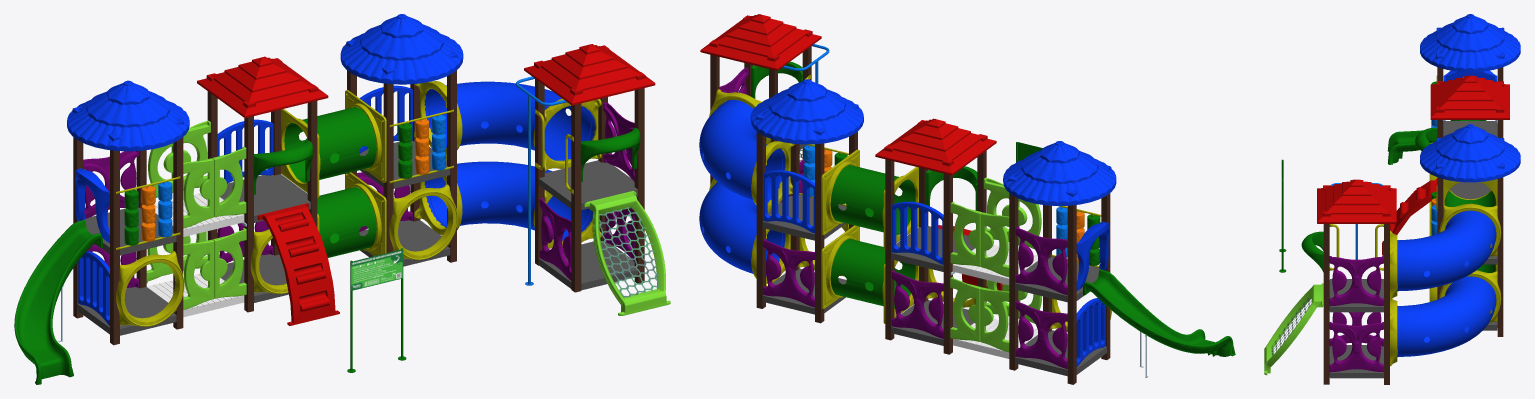
3 views of the same model, side by side, from view 1: azimuth 30°, elevation 25°; view 2: azimuth 150°, elevation 25°; view 3: azimuth 270°, elevation 25° (orthographic). The views are drawn at different scales.
Visible parts, largest first — view 1: object 15, TUNEL CURVO M3, TUNEL CURVO M3.001, object 20, TUNEL RETO 1M.001, TOLDO M2, TOLDO M2.001, object 11, TOLDO M1.001, TOLDO M1, TUNEL RETO 1M, object 35 (+35 smaller); view 2: object 15, TUNEL CURVO M3, TOLDO M2.001, TOLDO M2, TUNEL RETO 1M.001, TUNEL RETO 1M, TUNEL CURVO M3.001, TOLDO M1.001, TOLDO M1, object 20, FECHAMENTO M1.001, FECHAMENTO M1.002 (+27 smaller); view 3: TUNEL CURVO M3, TUNEL CURVO M3.001, object 15, TOLDO M2, TOLDO M2.001, TOLDO M1, TOLDO M1.001, object 20, COLUNA MAD PLAST 9 X 9CM.004, object 11, COLUNA MAD PLAST 9 X 9CM.002, COLUNA MAD PLAST 9 X 9CM.008 (+11 smaller).
Part boxes in pixels (x1,y1,x2,y2): object 15: (14,102,634,384); TUNEL CURVO M3: (414,81,601,171); TUNEL CURVO M3.001: (414,161,601,248); object 20: (148,120,670,315); TUNEL RETO 1M.001: (281,90,386,198); TOLDO M2: (67,80,189,151); TOLDO M2.001: (340,14,463,84); object 11: (257,203,339,325); TOLDO M1.001: (197,56,328,118); TOLDO M1: (524,44,655,105); TUNEL RETO 1M: (317,172,386,257); object 35: (515,76,659,297); object 15: (719,67,1235,377); TUNEL CURVO M3: (699,89,795,209); TOLDO M2.001: (750,79,863,144); TOLDO M2: (1003,141,1116,205); TUNEL RETO 1M.001: (821,149,918,249); TUNEL RETO 1M: (821,225,918,323); TUNEL CURVO M3.001: (699,178,790,286); TOLDO M1.001: (875,118,996,175); TOLDO M1: (700,14,821,70); object 20: (813,144,1041,277); FECHAMENTO M1.001: (763,170,814,233); FECHAMENTO M1.002: (892,201,943,264); TUNEL CURVO M3: (1390,203,1501,300); TUNEL CURVO M3.001: (1390,270,1501,366); object 15: (1329,70,1497,372); TOLDO M2: (1420,14,1520,72); TOLDO M2.001: (1420,124,1520,182); TOLDO M1: (1317,179,1396,223); TOLDO M1.001: (1430,75,1509,119); object 20: (1264,283,1323,375); COLUNA MAD PLAST 9 X 9CM.004: (1323,224,1329,384); object 11: (1382,178,1437,255); COLUNA MAD PLAST 9 X 9CM.002: (1384,224,1389,384); COLUNA MAD PLAST 9 X 9CM.008: (1497,177,1503,336).
Bounding box in the file's own units: 8.27 × 3.29 × 3.87.
21 materials, 2 textured.
